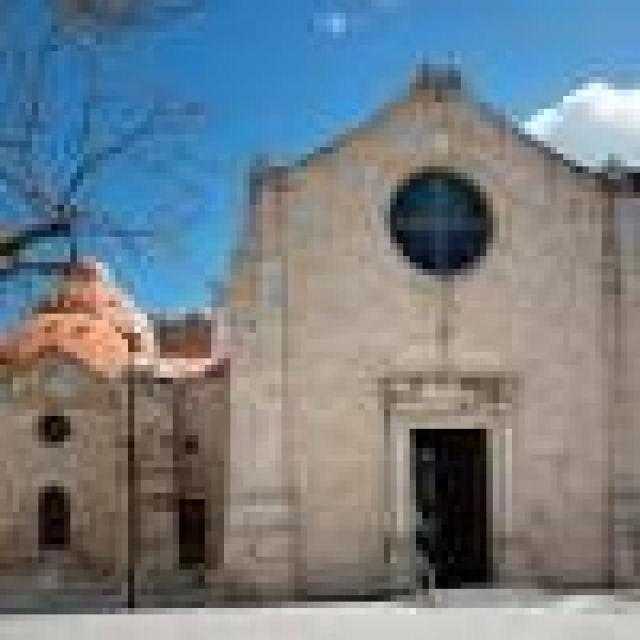Agia Aikaterini: (5, 55, 640, 594)
